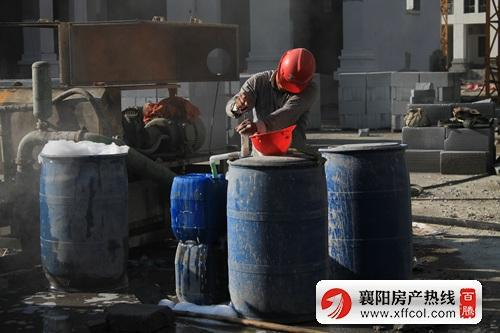helmet: (271, 46, 321, 96)
